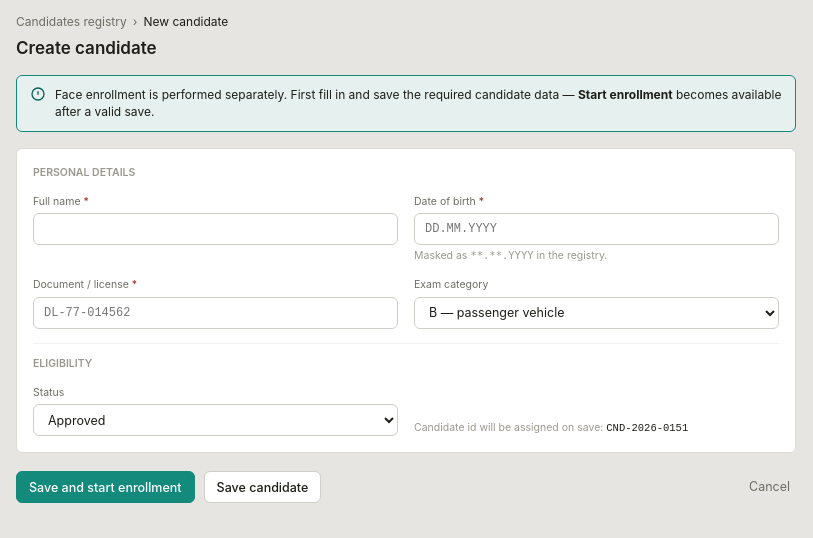
it: CandidateCreateScreen › surfaces validation errors only after the user attempts to save
The width and height of the screenshot is (813, 538).
Expected: the text "Enter the candidate's full name" is not shown
Click the button "Save candidate": (262, 487) x1=204 y1=471 x2=321 y2=503
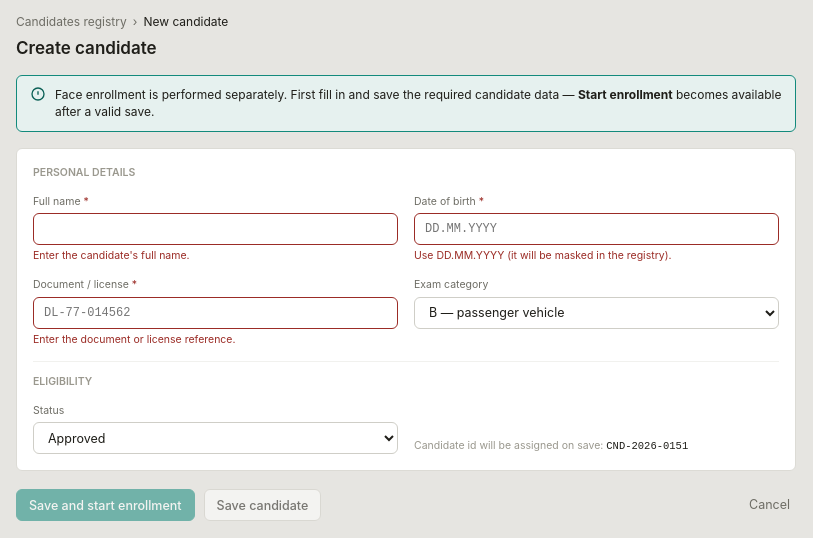
Expected: the text "Enter the candidate's full name." is shown, x1=33 y1=249 x2=190 y2=262
Expected: the text "Use DD.MM.YYYY (it will be masked in the registry)." is shown, x1=414 y1=249 x2=672 y2=262
Expected: the text "Enter the document or license reference." is shown, x1=33 y1=333 x2=236 y2=346
